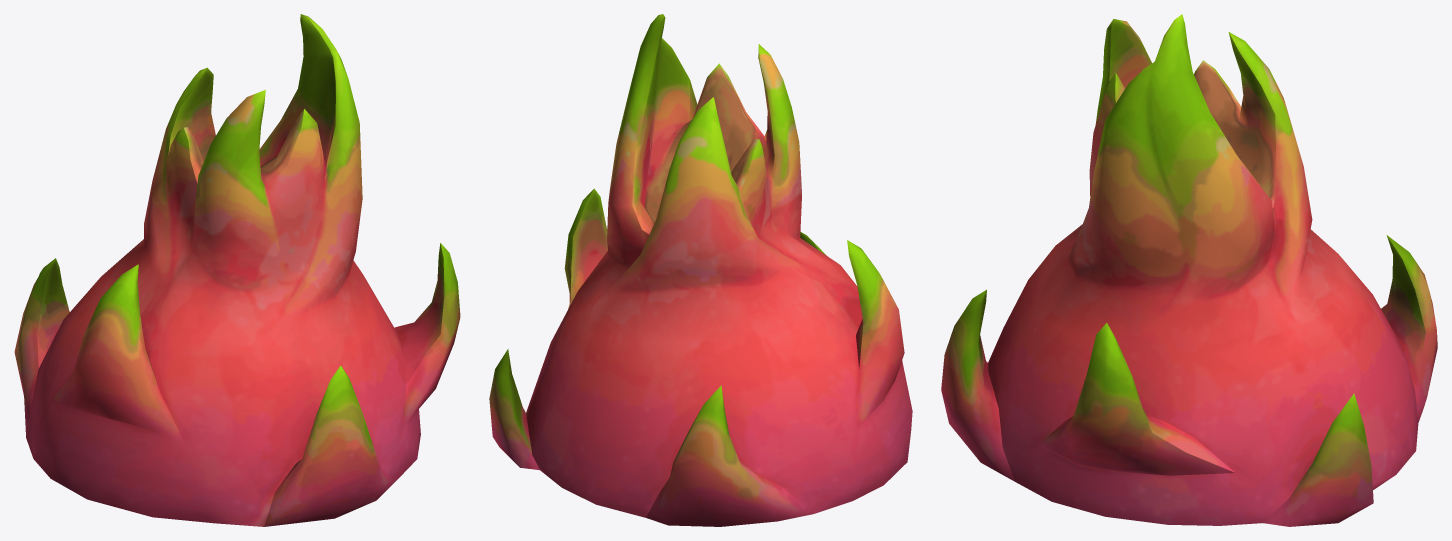
The model's file is SM_PitayaCutTop.fbx.
The picture shows the model from 3 angles, left to right: view 1: azimuth 30°, elevation 25°; view 2: azimuth 150°, elevation 25°; view 3: azimuth 270°, elevation 25°; orthographic projection. The views are drawn at different scales.
Visible parts, largest first — view 1: SM_PitayaCutTop; view 2: SM_PitayaCutTop; view 3: SM_PitayaCutTop.
Part boxes in pixels (bbox=[...]): SM_PitayaCutTop: bbox=[14, 14, 460, 526]; SM_PitayaCutTop: bbox=[489, 14, 912, 526]; SM_PitayaCutTop: bbox=[941, 14, 1437, 526].
Bounding box in the file's own units: 13.72 × 15.06 × 14.83.
